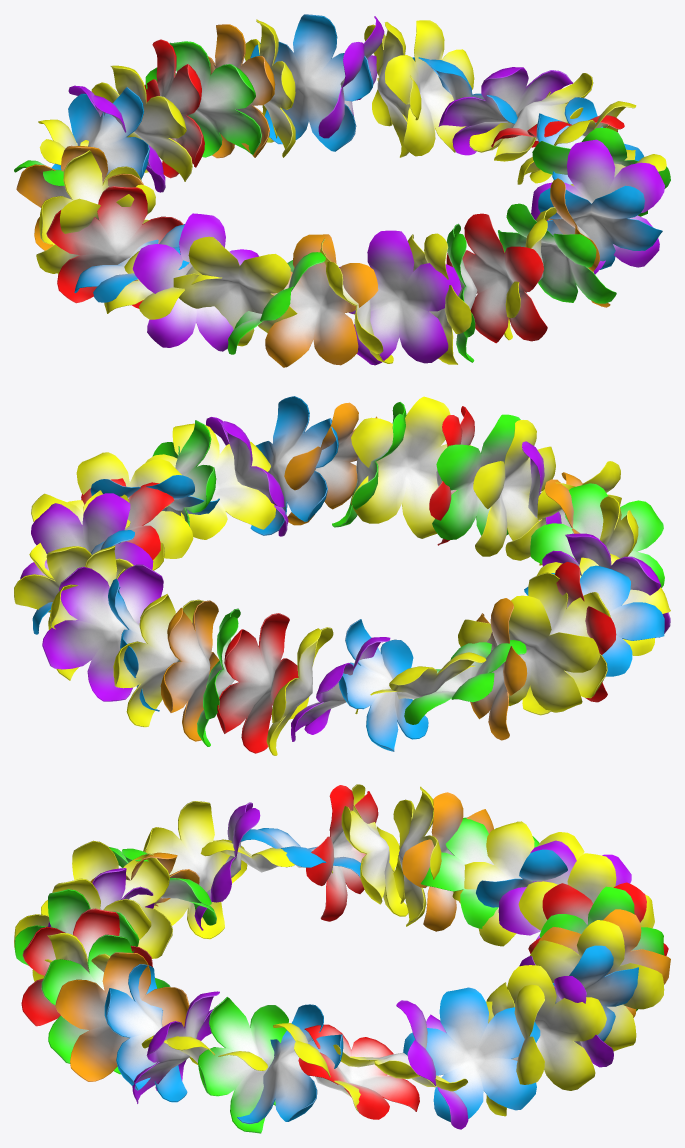
Rendered from SM_collier_fleur.fbx.
3 views of the same model, one above another, from view 1: azimuth 30°, elevation 25°; view 2: azimuth 150°, elevation 25°; view 3: azimuth 270°, elevation 25° (orthographic).
Visible parts, largest first — view 1: COLLIER_FLEUR.001; view 2: COLLIER_FLEUR.001; view 3: COLLIER_FLEUR.001.
Boxes of the visible parts, box(x1,y1,x2,y2) form: COLLIER_FLEUR.001: box(14, 14, 670, 367); COLLIER_FLEUR.001: box(14, 396, 670, 755); COLLIER_FLEUR.001: box(14, 784, 670, 1133).
Bounding box in the file's own units: 121 × 26.45 × 122.
